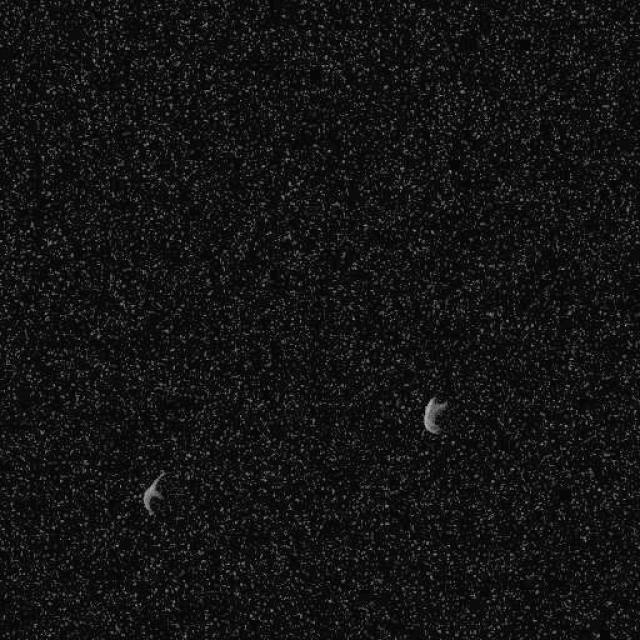D2: (421, 395, 449, 435), (142, 470, 166, 516)
